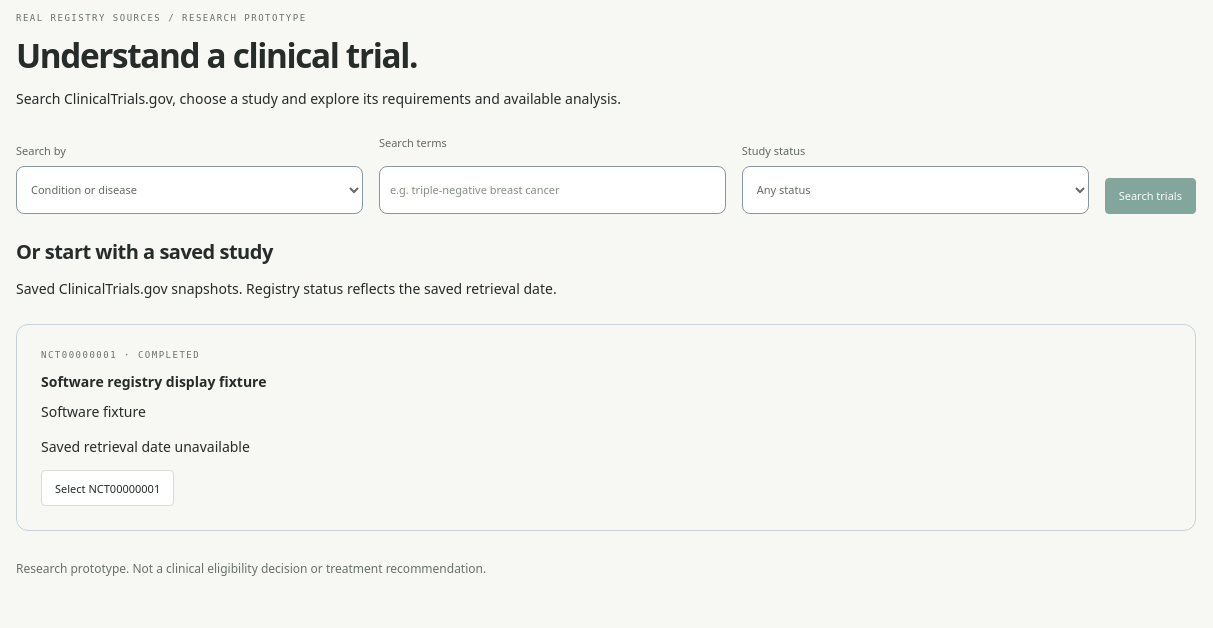
Scenario: network failure leaves genuine saved choices available and does not substitute records
Type "software fixture" into the field labelled "Search terms".
click(552, 190); type("software fixture")  # box left=379, top=166, right=726, bottom=214
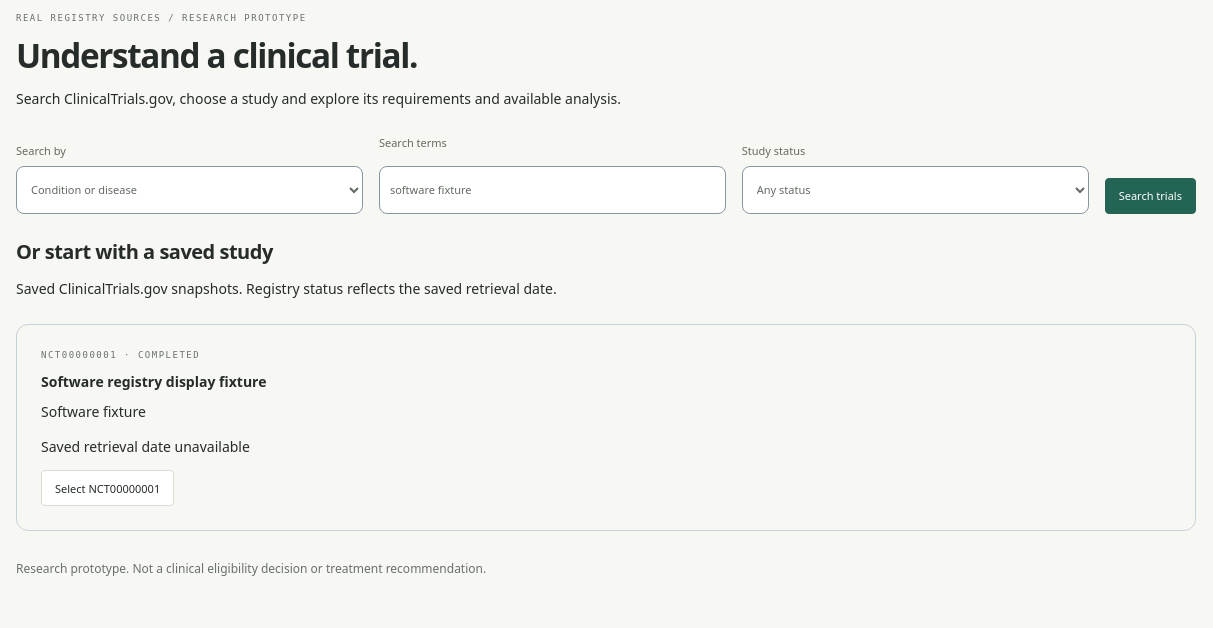
Click the button "Search trials".
click(1150, 196)  # box left=1105, top=178, right=1196, bottom=214
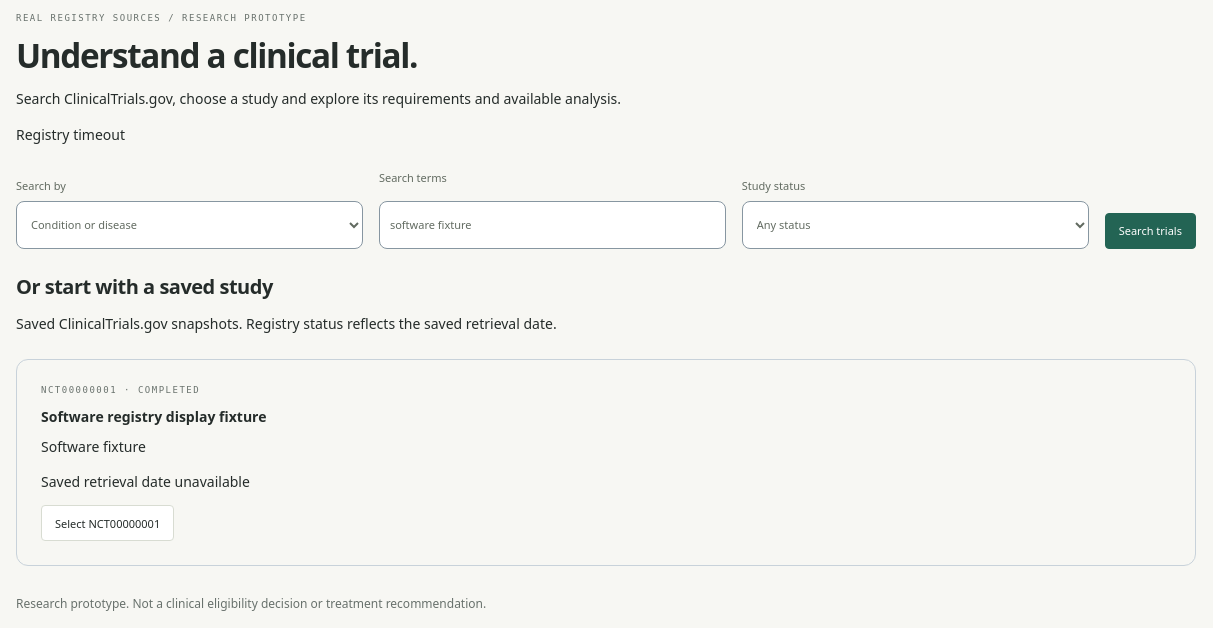
Expected: the button "Select NCT00000001" is shown, left=41, top=505, right=174, bottom=541
Expected: the message reads "Registry timeout", left=16, top=124, right=125, bottom=144
